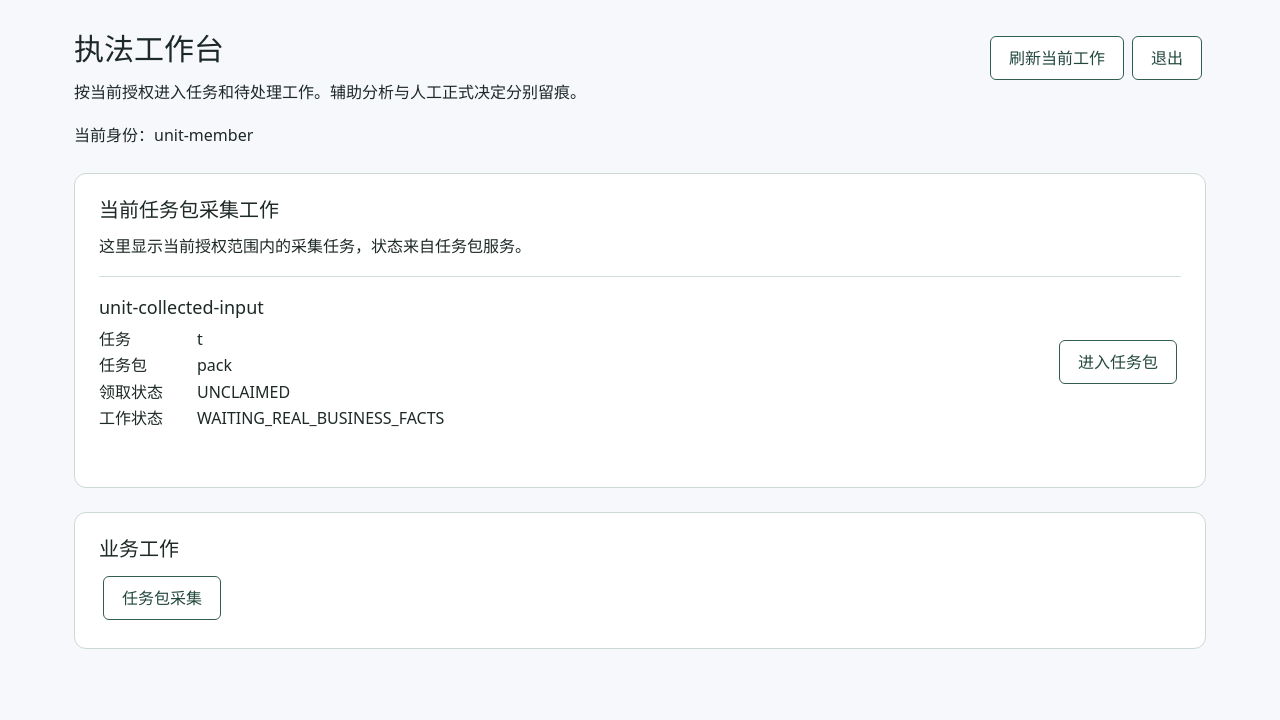
Test case: service failure clears content and is not shown as a successful empty queue
expect the heading "unit-collected-input" is shown: met, box [99,295,264,319]
Click the button "刷新当前工作". click: [1057, 58]
box: [990,36,1124,80]
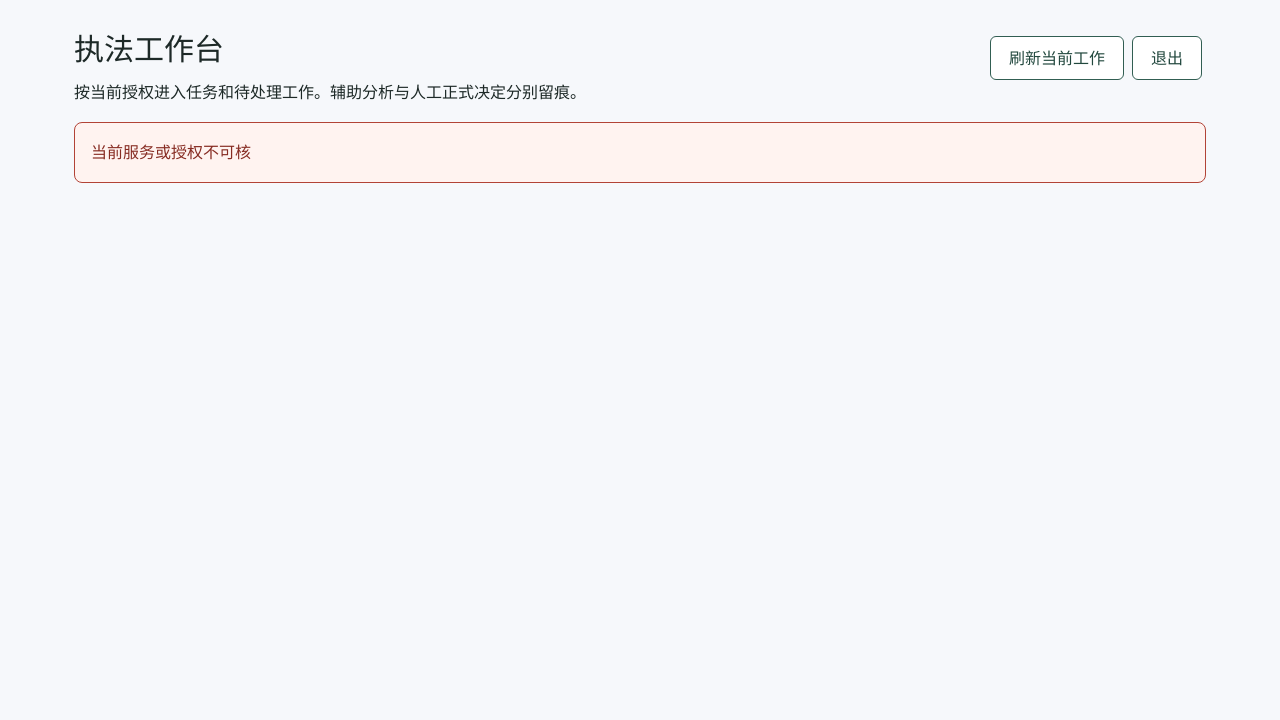
expect the message "当前服务或授权不可核" is shown: met, box [74,122,1206,183]
expect the heading "unit-collected-input" is gone: met
